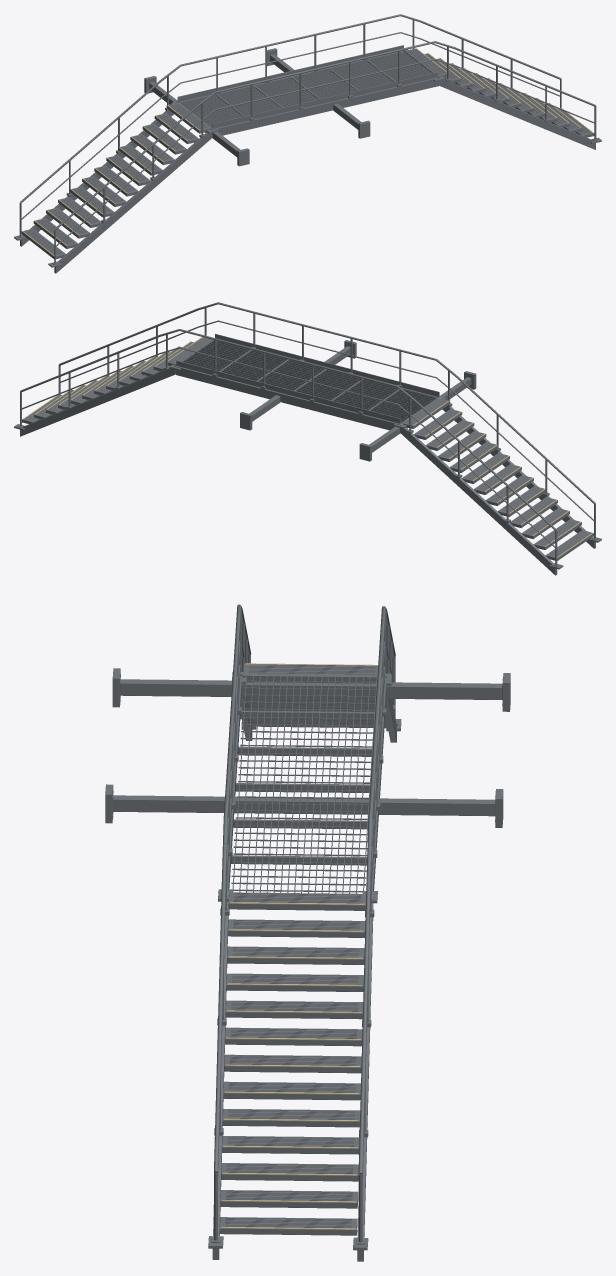
The model's file is BD_T02_UpperWalk.fbx.
The picture shows the model from 3 angles, top to bottom: view 1: azimuth 30°, elevation 25°; view 2: azimuth 150°, elevation 25°; view 3: azimuth 270°, elevation 25°; orthographic projection. The views are drawn at different scales.
Visible parts, largest first — view 1: BD_T02_UpperWalk; view 2: BD_T02_UpperWalk; view 3: BD_T02_UpperWalk.
Part boxes in pixels (x1,y1,x2,y2): BD_T02_UpperWalk: (14,14,601,273); BD_T02_UpperWalk: (14,302,601,575); BD_T02_UpperWalk: (105,604,510,1261).
Size of the model in its own units: 1371 by 350 by 443.
